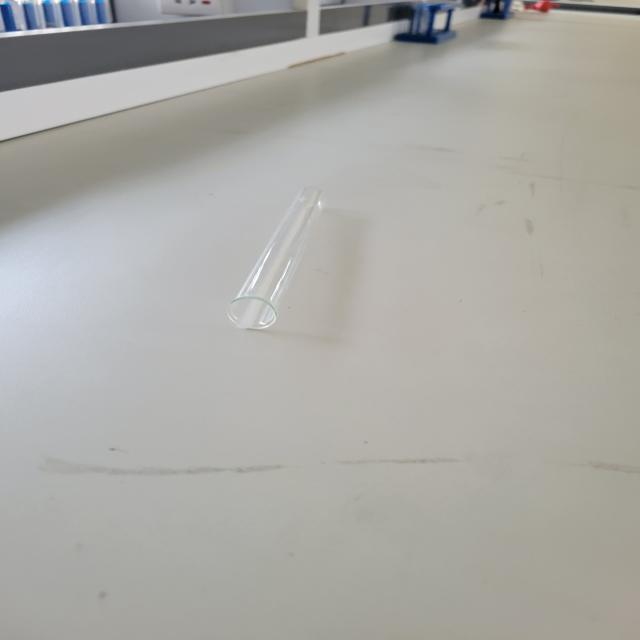Test_Tube: (208, 129, 353, 399)
